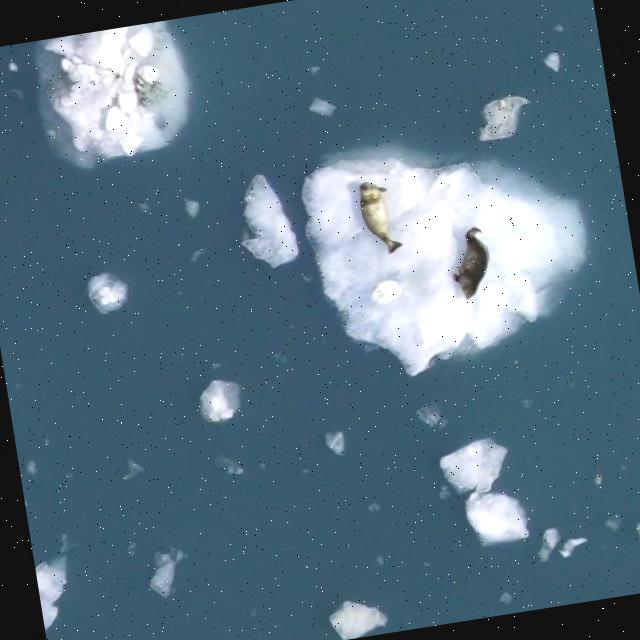seal: (353, 177, 403, 260), (449, 223, 495, 304)
